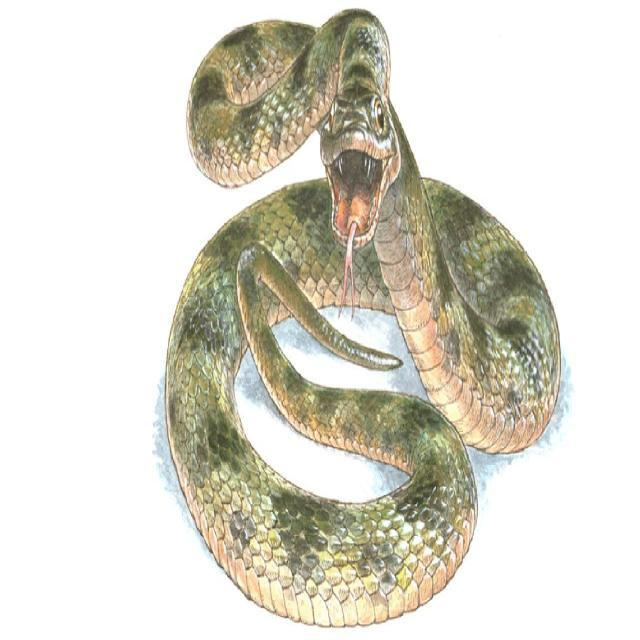Snake: (153, 0, 566, 620)
